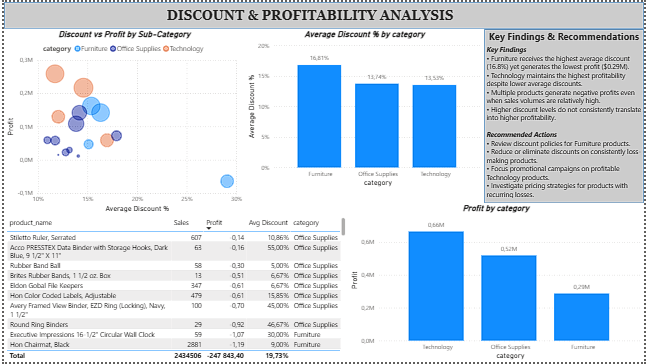

The page's visual inventory and layout, read from the dashboard file:
{"tool":"powerbi","page":{"name":"Page 5 — Discount Analysis","canvas":[1280,720],"ordinal":5},"visuals":[{"type":"scatterChart","title":"Discount vs Profit by Sub-Category","fields":{"Y":["Sum(store.profit)"],"Size":["Sum(store.sales)"],"Series":["store.category"],"Category":["store.sub_category"],"X":["127 0 0 1:3309: FinanceTrade.Average Discount %"]},"box":[0,53.3,481.7,371.7],"z":0},{"type":"shape","box":[0,0,1280,53.3],"z":1000},{"type":"textbox","title":"DISCOUNT & PROFITABILITY ANALYSIS ","box":[263.3,11.7,696.7,30],"z":2000},{"type":"clusteredColumnChart","fields":{"Category":["store.category"],"Y":["127 0 0 1:3309: FinanceTrade.Average Discount %"]},"box":[481.7,53.3,478.3,320],"z":3000},{"type":"columnChart","fields":{"Category":["store.category"],"Y":["Sum(store.profit)"]},"box":[688.3,401.7,591.7,318.3],"z":4000},{"type":"tableEx","fields":{"Values":["store.product_name","Sum(store.sales)","Sum(store.profit)","127 0 0 1:3309: FinanceTrade.Average Discount %","store.category"]},"box":[0,425,688.3,295],"z":5000},{"type":"shape","box":[960,53.3,320,348.3],"z":6000},{"type":"textbox","title":"Key Findings & Recommendations","box":[960,56.9,320,344.6],"z":7000}]}

Visuals, with their boxes in screenshot pixels (x1, y1, x2, y2), scaled from the page's 1280x720 canvas onto the 648x364 screenshot:
"Discount vs Profit by Sub-Category" scatterChart: bbox=(0, 27, 244, 215)
shape: bbox=(0, 0, 647, 27)
"DISCOUNT & PROFITABILITY ANALYSIS " textbox: bbox=(133, 6, 486, 21)
clusteredColumnChart - store.category x 127 0 0 1:3309: FinanceTrade.Average Discount %: bbox=(244, 27, 486, 189)
columnChart - store.category x Sum(store.profit): bbox=(348, 203, 647, 363)
tableEx - store.product_name x Sum(store.sales): bbox=(0, 215, 348, 363)
shape: bbox=(486, 27, 647, 203)
"Key Findings & Recommendations" textbox: bbox=(486, 29, 647, 203)
